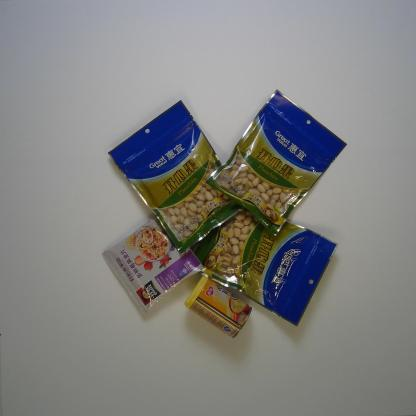Canned Food: (184, 275, 253, 339)
Dried Fruit: (204, 88, 349, 238), (107, 98, 243, 256), (194, 206, 340, 328)
Instant Drink: (102, 214, 204, 316)
